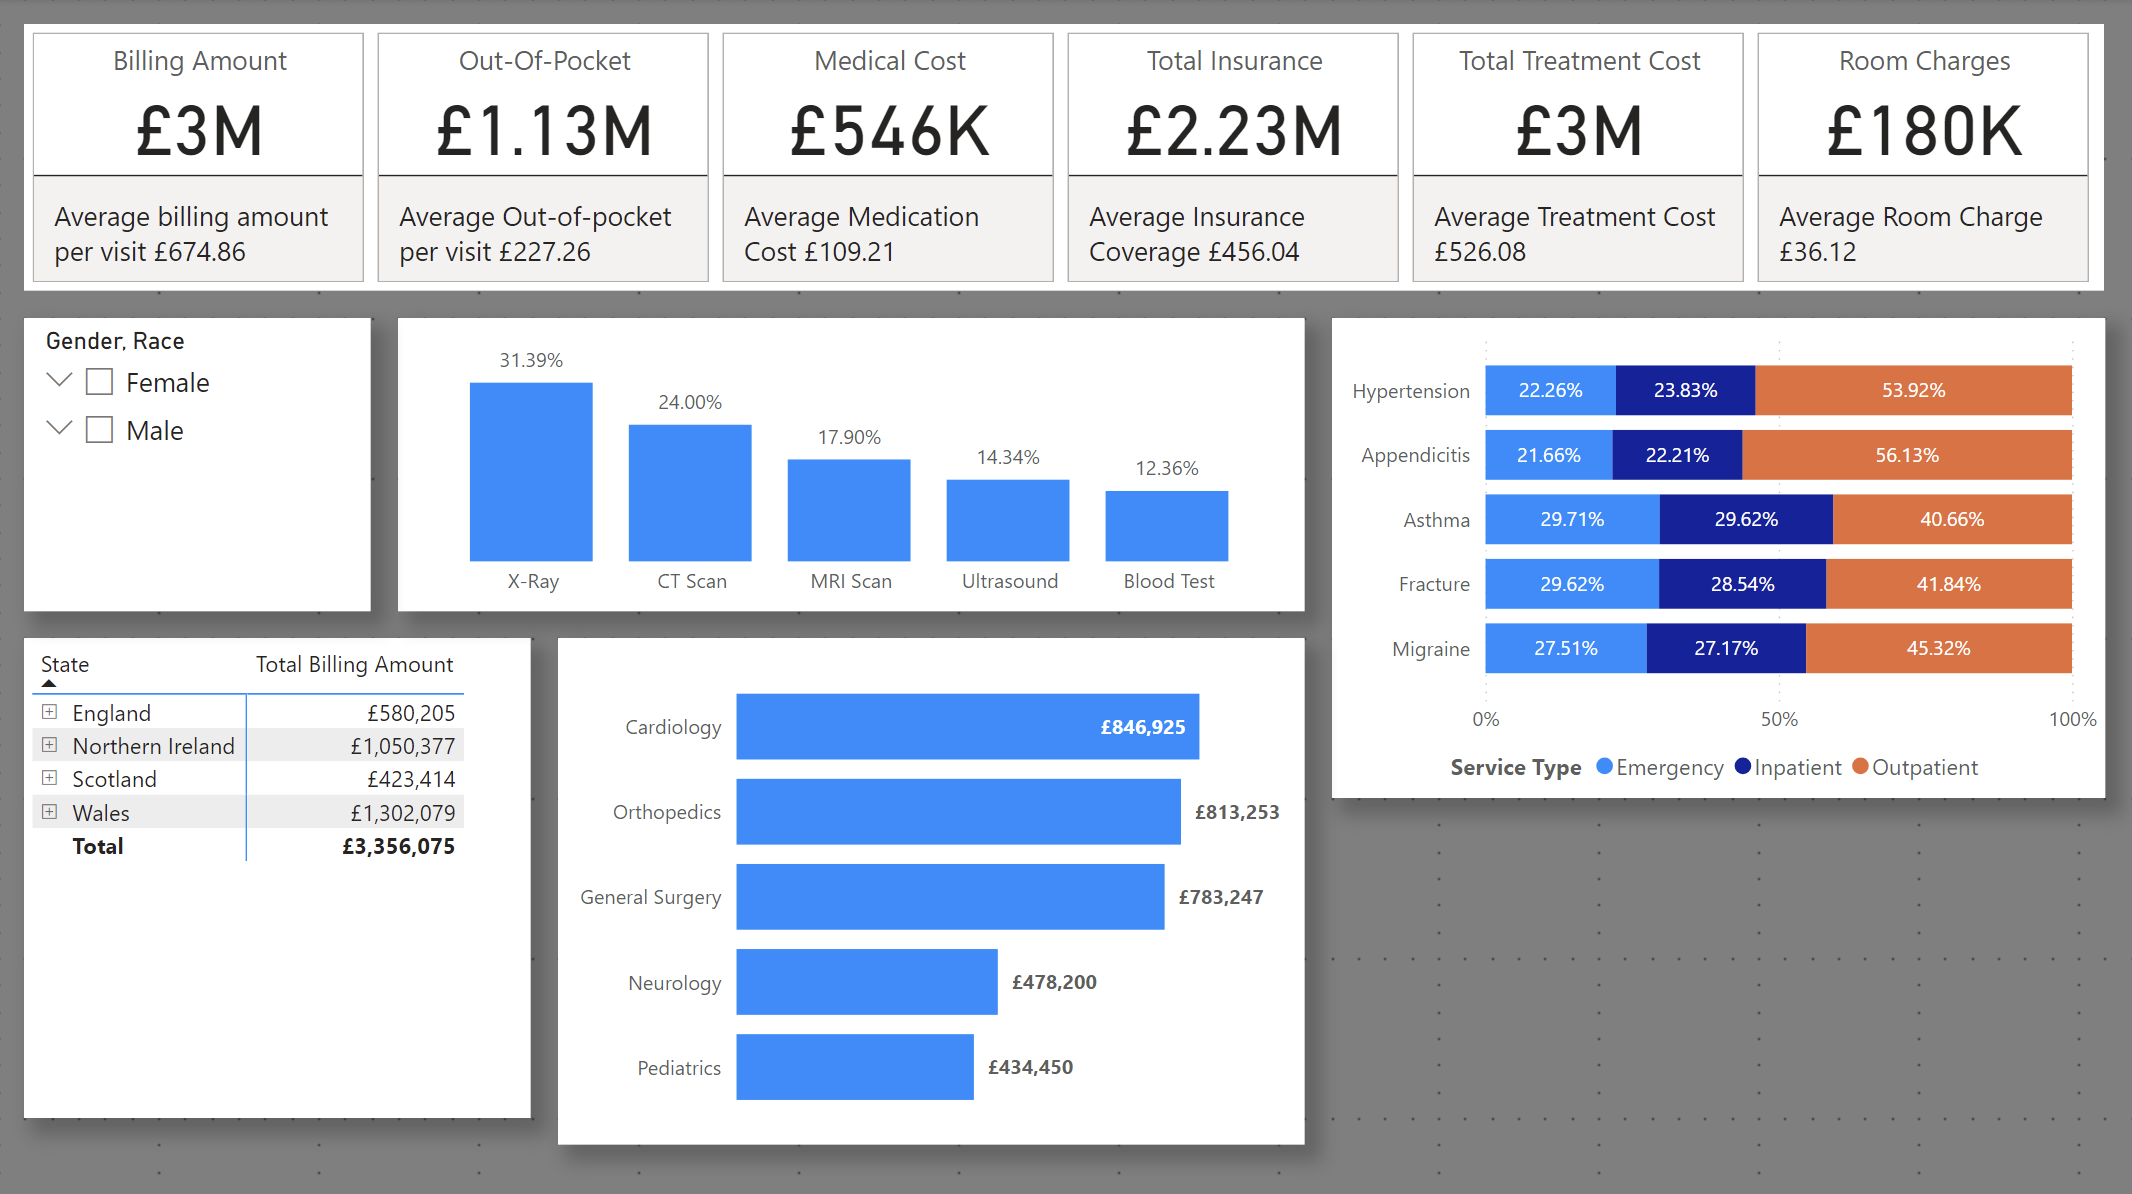

Layout of this report page (visuals, bound fields, positions):
{"tool":"powerbi","page":{"name":"Overview","canvas":[1280,720],"ordinal":0},"visuals":[{"type":"cardVisual","fields":{"Data":["_Measures.Total Billing Amount","_Measures.Out-Of-Pocket","_Measures.Total Medication Cost","_Measures.Total Insurance Covered","_Measures.Total Treatment Cost","_Measures.Total Room Charge"]},"box":[16,16,1248,160],"z":0},{"type":"pivotTable","fields":{"Rows":["cities.State","cities.City"],"Values":["_Measures.Total Billing Amount"]},"box":[16,384,304,288],"z":1000},{"type":"clusteredColumnChart","fields":{"Y":["_Measures.% of procedure"],"Category":["procedures.Procedure"]},"box":[240,192,544,176],"z":2000},{"type":"hundredPercentStackedBarChart","title":"Total % by Diagnosis and Service Type","fields":{"Category":["diagnoses.Diagnosis"],"Series":["visits.Service Type"],"Y":["_Measures.Total Billing Amount"]},"box":[800,192,464,288],"z":3000},{"type":"clusteredBarChart","fields":{"Category":["departments.Department"],"Y":["_Measures.Total Billing Amount"]},"box":[336,384,448,304],"z":4000},{"type":"slicer","fields":{"Values":["patients.Gender","patients.Race"]},"box":[16,192,208,176],"z":5000}]}

Visuals, with their boxes in screenshot pixels (x1, y1, x2, y2), scaled from the page's 1280x720 canvas onto the 2132x1194 screenshot:
cardVisual - _Measures.Total Billing Amount x _Measures.Out-Of-Pocket: 27,27,2105,292
pivotTable - cities.State x cities.City: 27,637,533,1114
clusteredColumnChart - _Measures.% of procedure x procedures.Procedure: 400,318,1306,610
"Total % by Diagnosis and Service Type" hundredPercentStackedBarChart: 1332,318,2105,796
clusteredBarChart - departments.Department x _Measures.Total Billing Amount: 560,637,1306,1141
slicer - patients.Gender x patients.Race: 27,318,373,610
